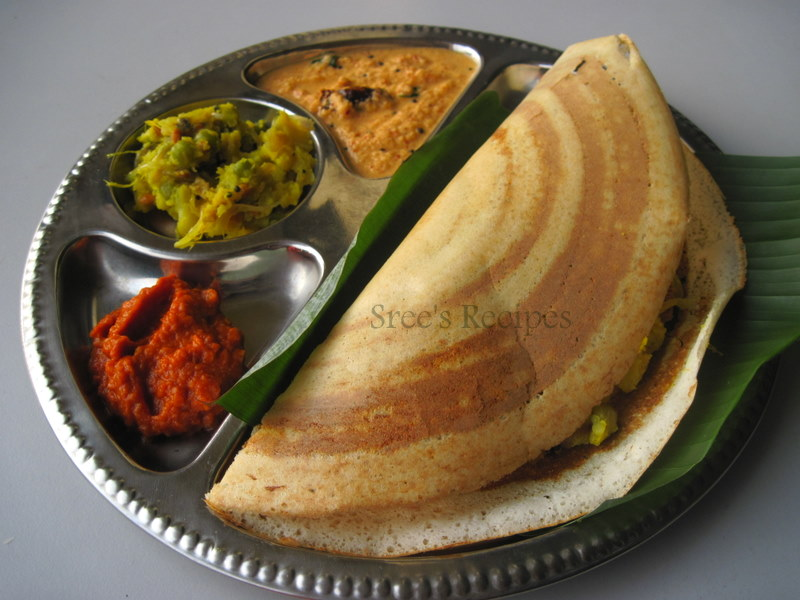dosa: (198, 16, 777, 595)
